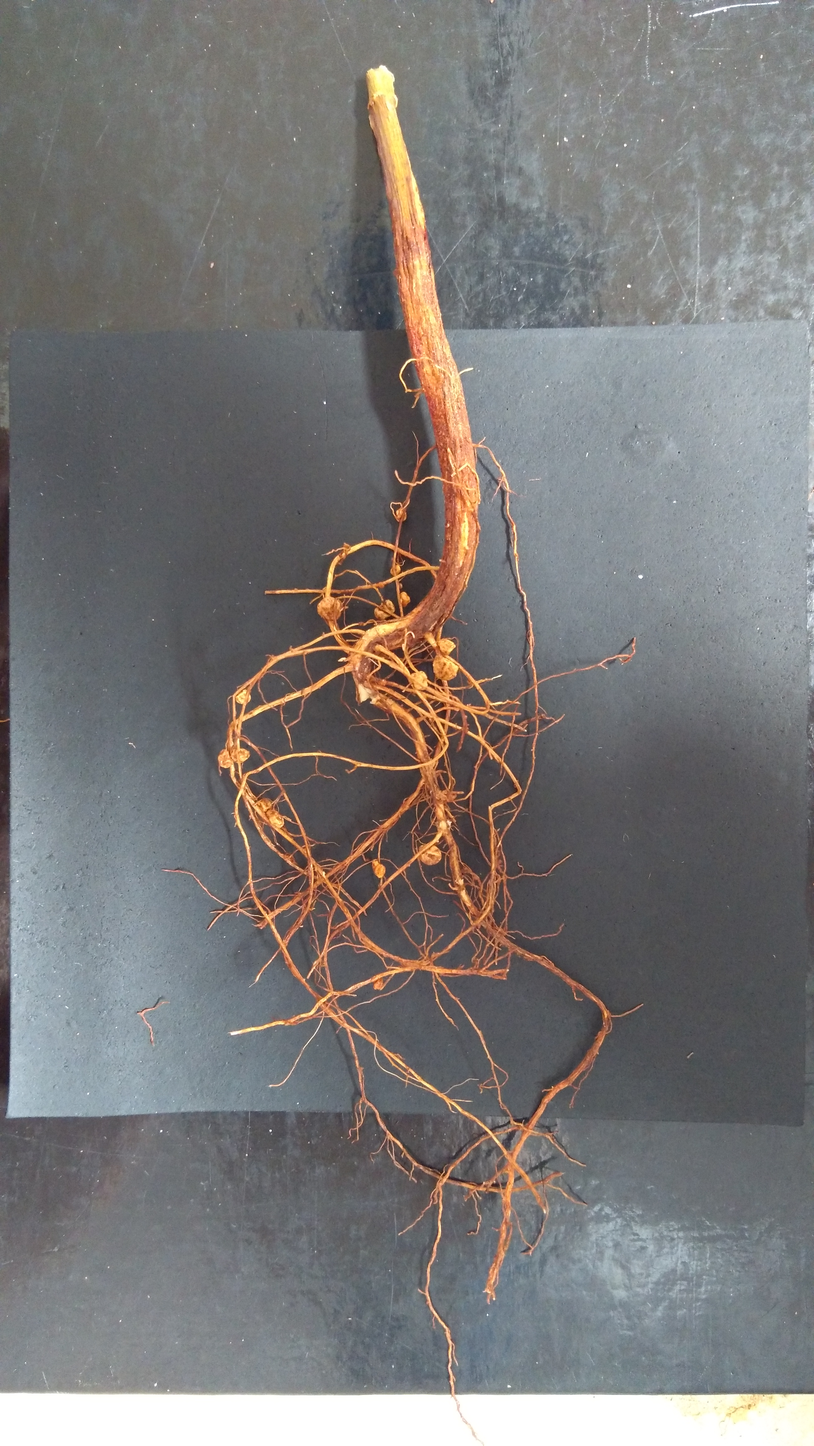nodule: (432, 653, 459, 682), (316, 596, 343, 621), (417, 843, 442, 866), (373, 598, 396, 621), (263, 808, 285, 830), (409, 670, 429, 692), (229, 747, 251, 765), (437, 638, 457, 657), (217, 747, 232, 770), (371, 858, 386, 879), (255, 797, 272, 814), (235, 689, 253, 704), (400, 590, 411, 608), (395, 507, 408, 522), (389, 564, 402, 578), (372, 978, 385, 991), (444, 791, 458, 801), (377, 581, 385, 589), (398, 582, 403, 589)
